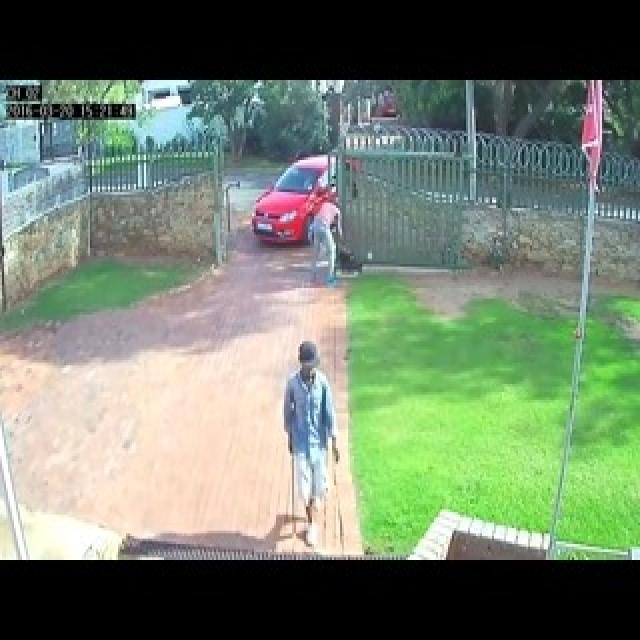thief: (282, 340, 325, 482), (304, 181, 345, 303)
